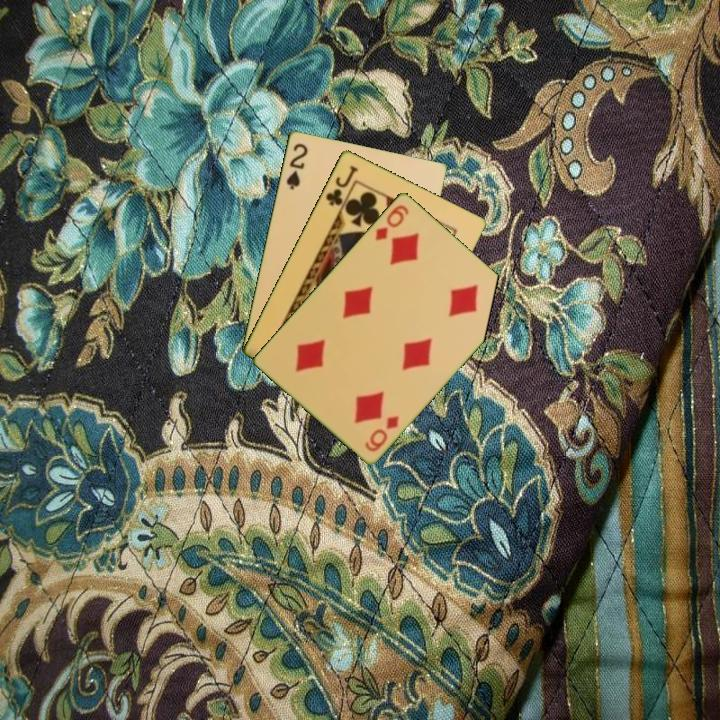2s: (282, 139, 310, 192)
6d: (361, 411, 402, 454), (371, 201, 412, 243)
Jc: (322, 161, 361, 209)
